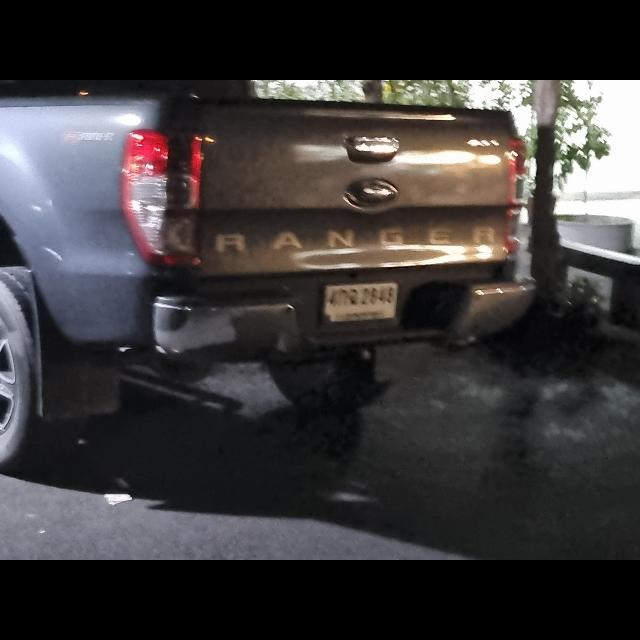licenseplate: (321, 279, 399, 325)
